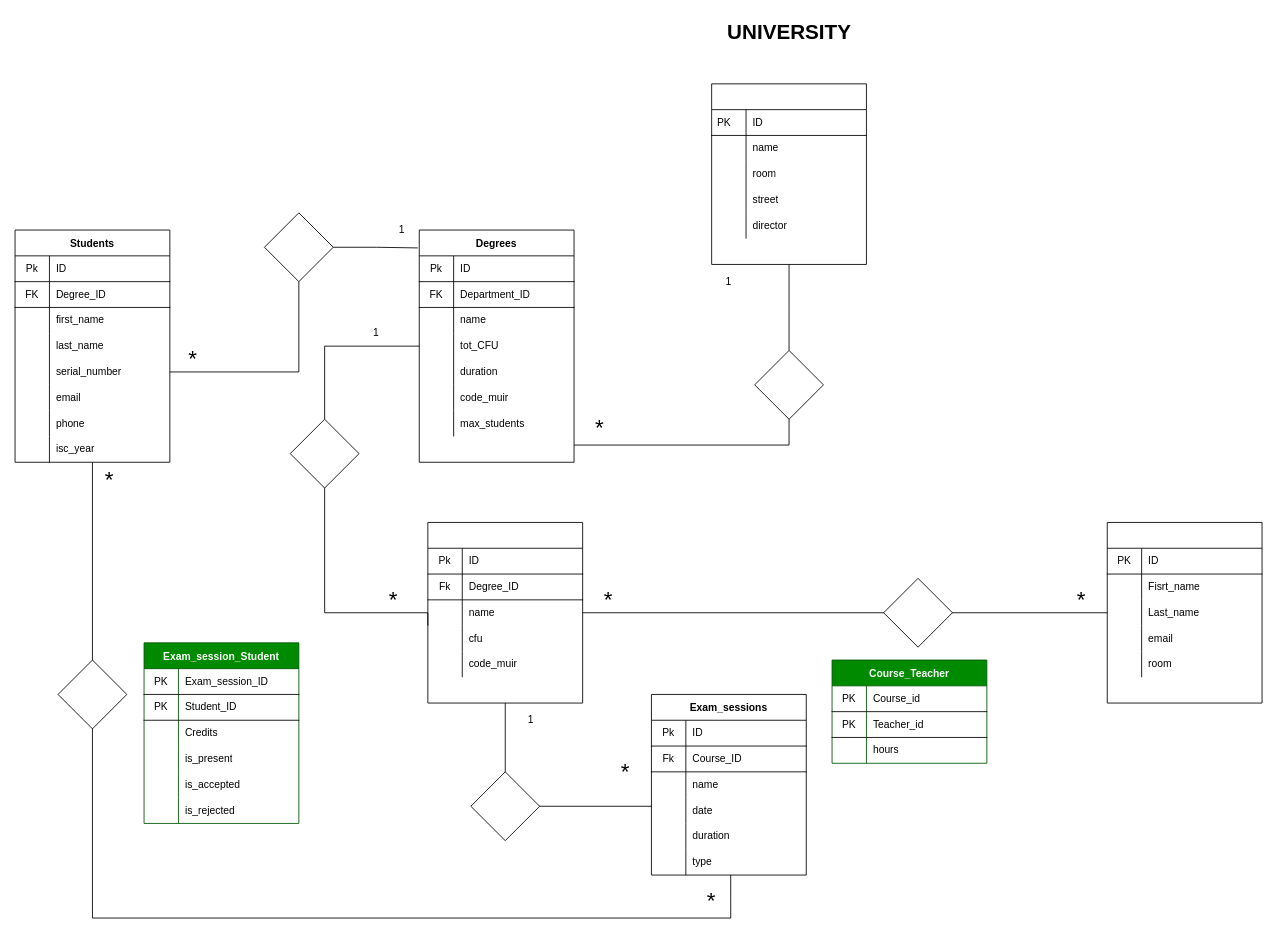
Image size: 1277x934. Some labels were removed from this diagram. The shapes that lost their labels are listed below. From the top down, each one's box as (x1, y1, x2, y2) in pixels, then its label:
(711, 83, 866, 264): Departments
(427, 522, 583, 703): Courses
(1106, 522, 1262, 703): Teachers
